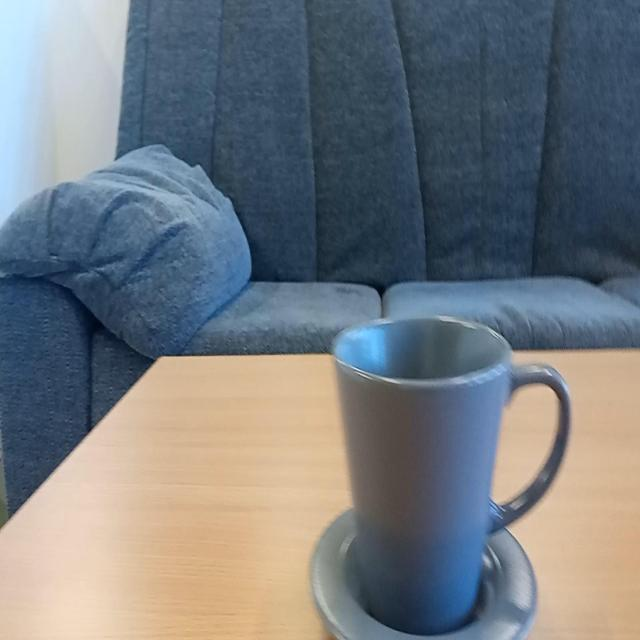cup: (308, 308, 577, 640)
